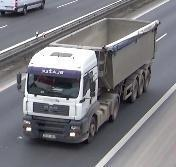truck: (16, 12, 159, 147)
